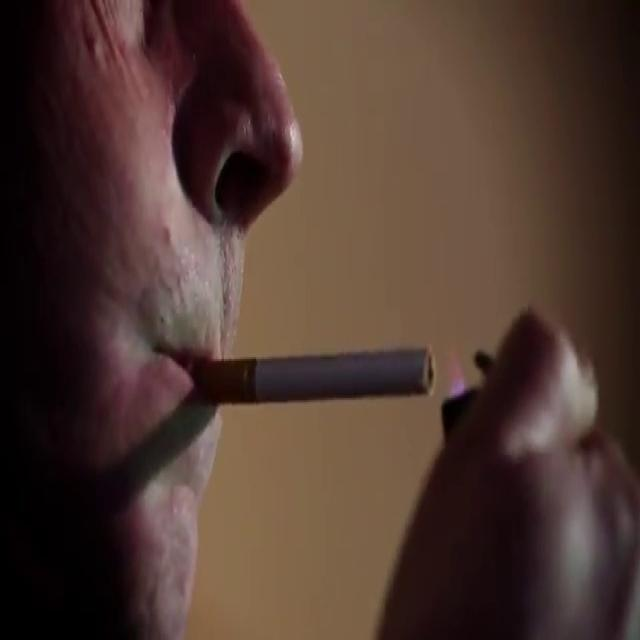fire: (430, 333, 488, 429)
